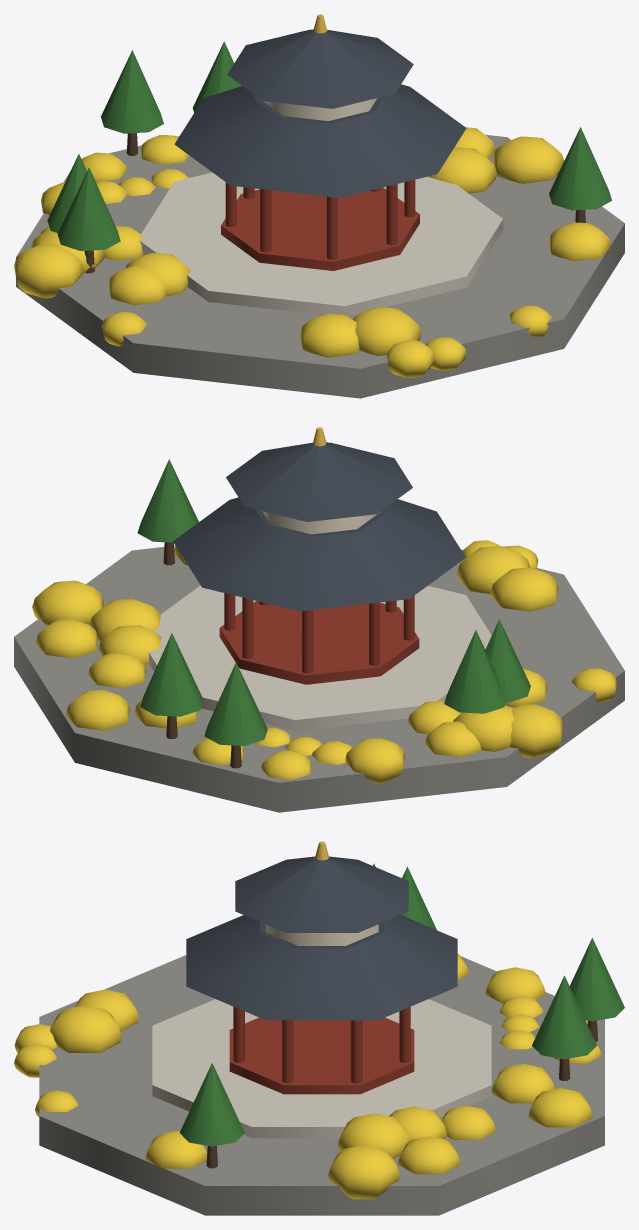
The model's file is eungbong-pavilion.glb.
The picture shows the model from 3 angles, top to bottom: view 1: azimuth 30°, elevation 25°; view 2: azimuth 150°, elevation 25°; view 3: azimuth 270°, elevation 25°; orthographic projection.
Size of the model in its own units: 29.88 by 13.7 by 29.95.
